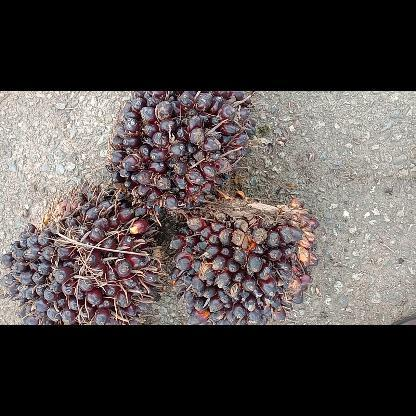TBS mentah: (1, 180, 165, 324), (169, 198, 318, 324), (106, 92, 254, 214)
